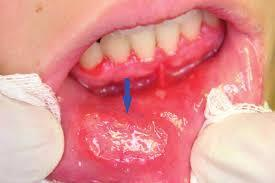Ulcer: (75, 105, 184, 168)
